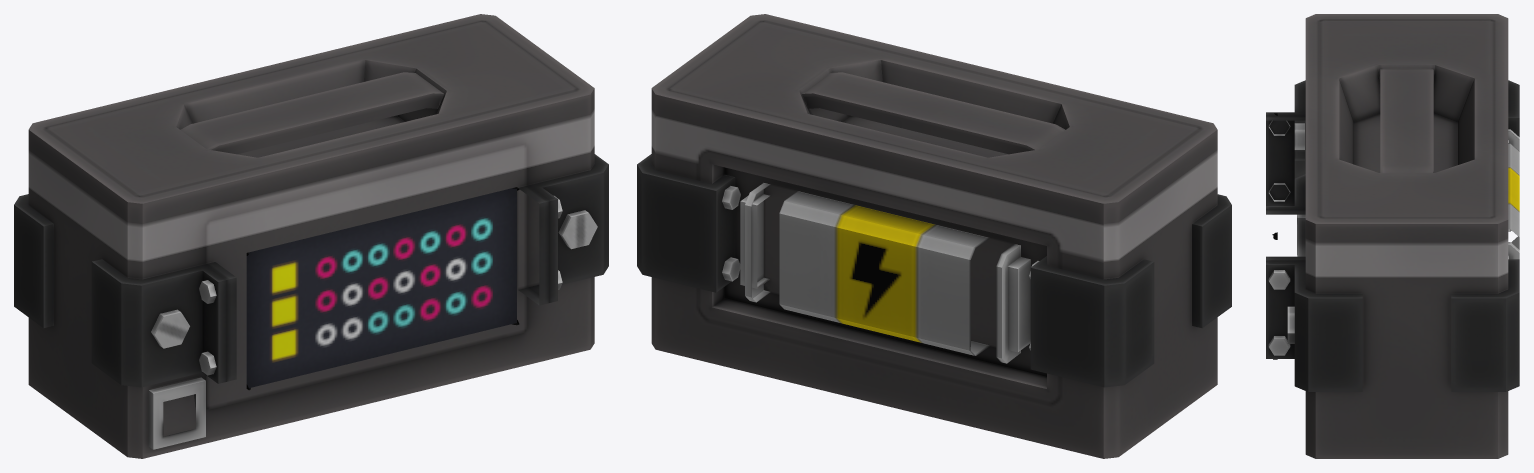
The model's file is obj_interactive_controller_01.fbx.
3 views of the same model, side by side, from view 1: azimuth 30°, elevation 25°; view 2: azimuth 150°, elevation 25°; view 3: azimuth 270°, elevation 25° (orthographic). The views are drawn at different scales.
Visible parts, largest first — view 1: obj_interactive_controller_01; view 2: obj_interactive_controller_01; view 3: obj_interactive_controller_01.
Boxes of the visible parts, box(x1,y1,x2,y2) form: obj_interactive_controller_01: box(14, 14, 608, 458); obj_interactive_controller_01: box(637, 14, 1231, 458); obj_interactive_controller_01: box(1266, 14, 1519, 458).
Bounding box in the file's own units: 2 × 1 × 0.9991.
